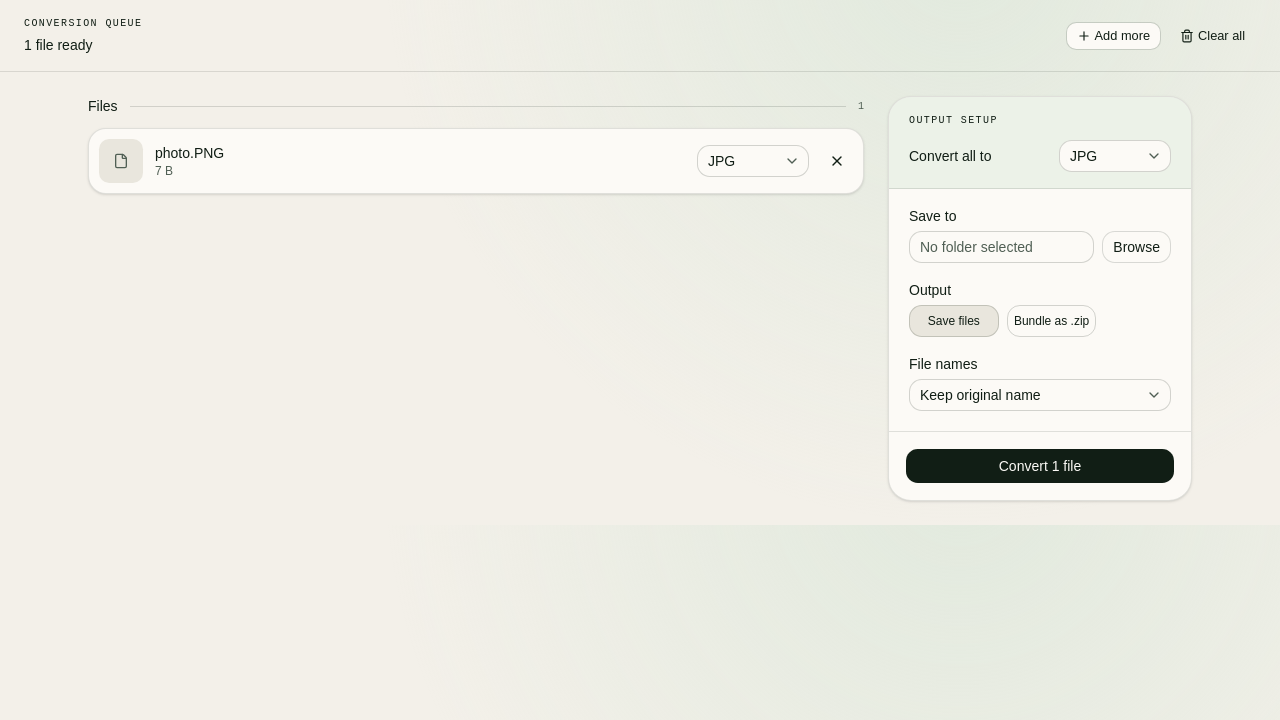
Test case: conversion queue › shows backend errors and lets the user retry
The width and height of the screenshot is (1280, 720).
Step 1. Click the button "Convert 1 file" → x=1040, y=466, box x1=905 y1=448 x2=1175 y2=484
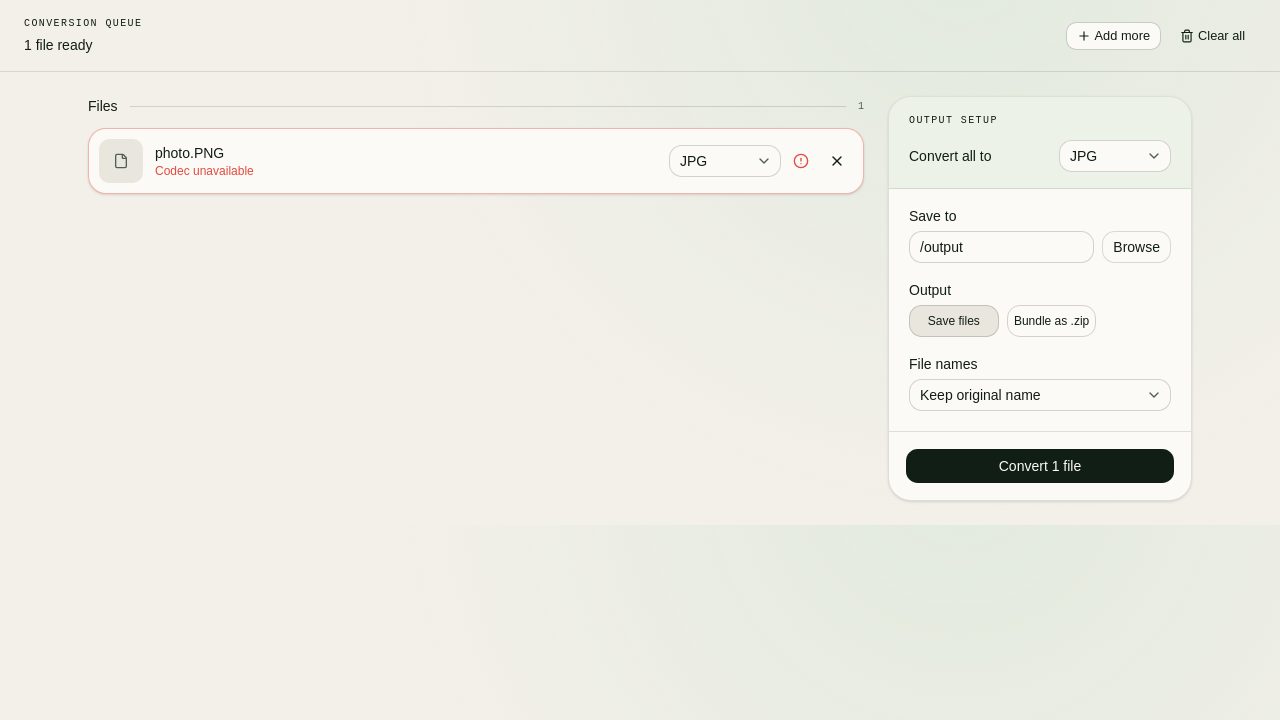
Check: the text "Codec unavailable" is shown, box x1=155 y1=164 x2=254 y2=178
Step 2. Click the button "Convert 1 file" → x=1040, y=466, box x1=905 y1=448 x2=1175 y2=484
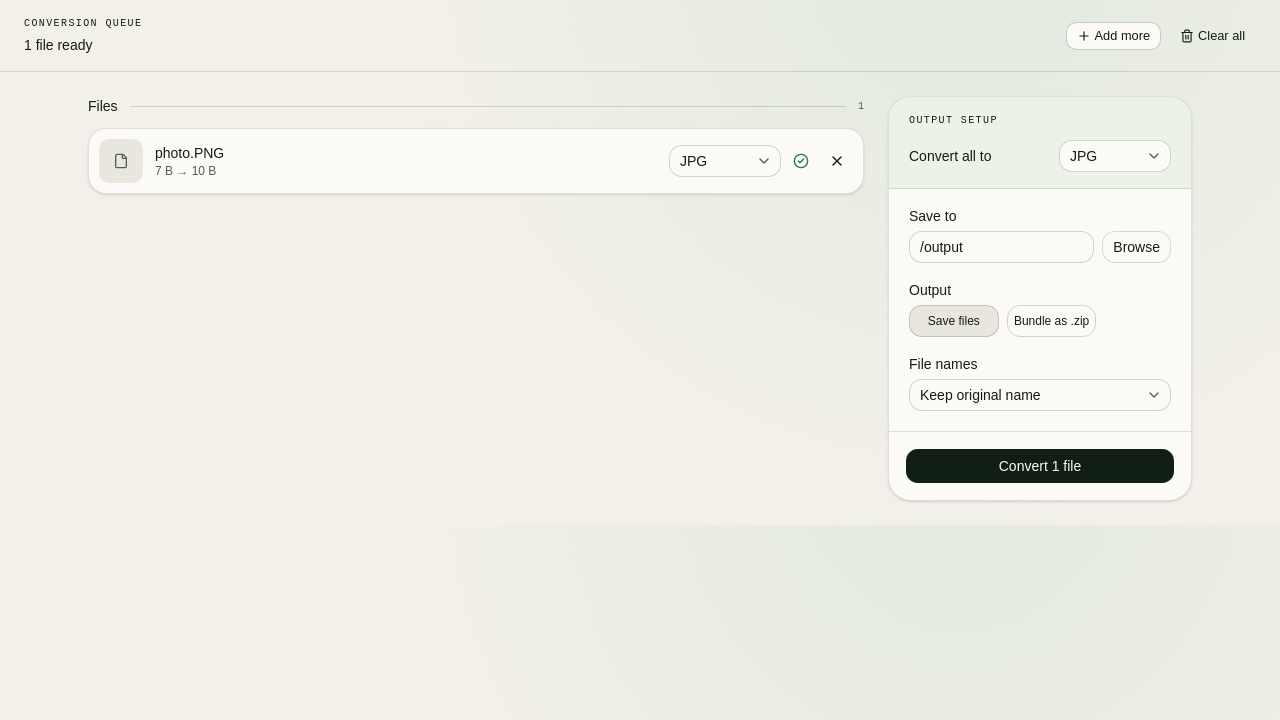
Check: the text "Codec unavailable" is gone
